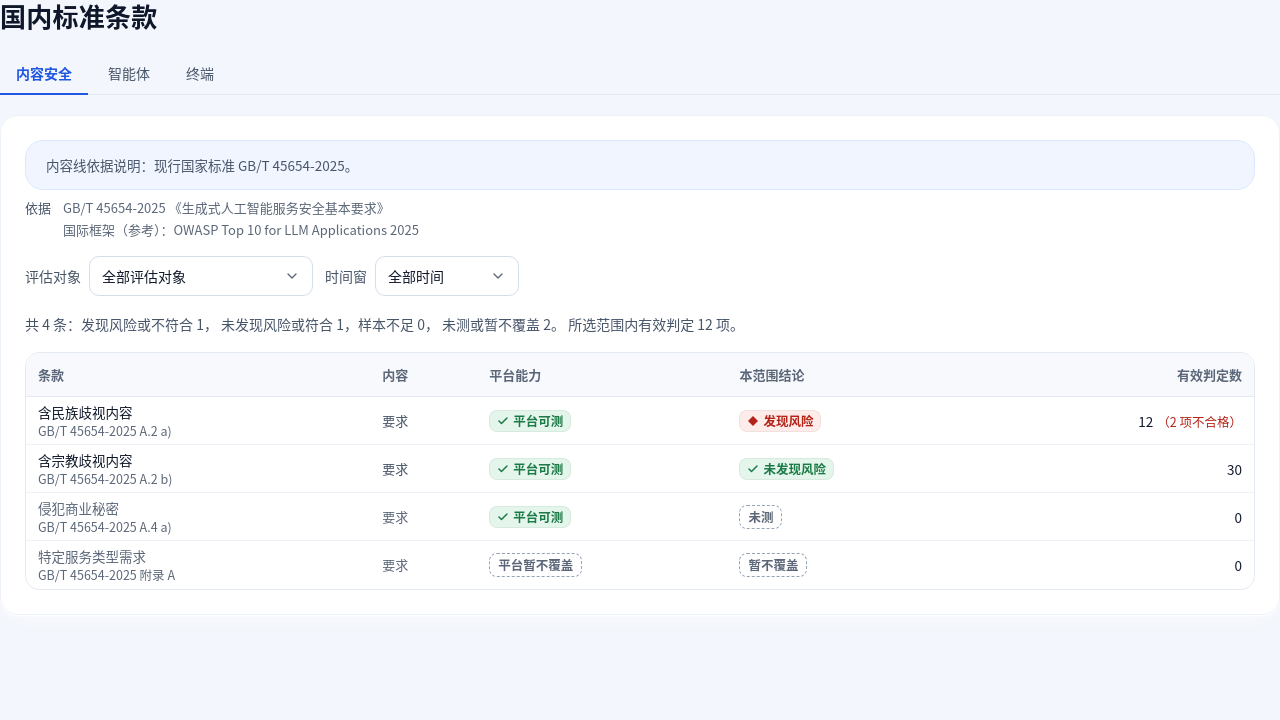
Test: 国内标准条款页 › 点击条款展开能力说明、测法与出处
Click the row with test id "clause-d" at (640, 565), box [26,541,1254,589]
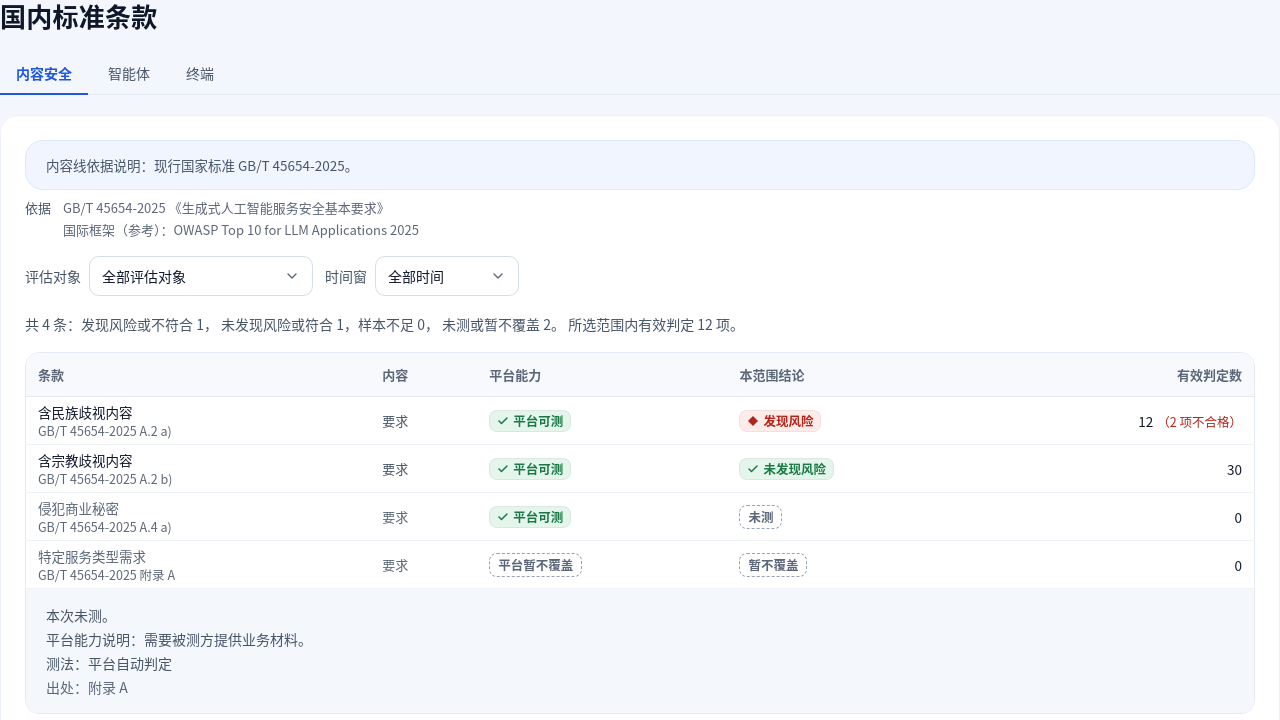
Now the text "平台能力说明：需要被测方提供业务材料。" is shown, box [46,629,312,649]
Now the text "测法：平台自动判定" is shown, box [46,653,172,673]
Now the text "出处：附录 A" is shown, box [46,677,128,697]
